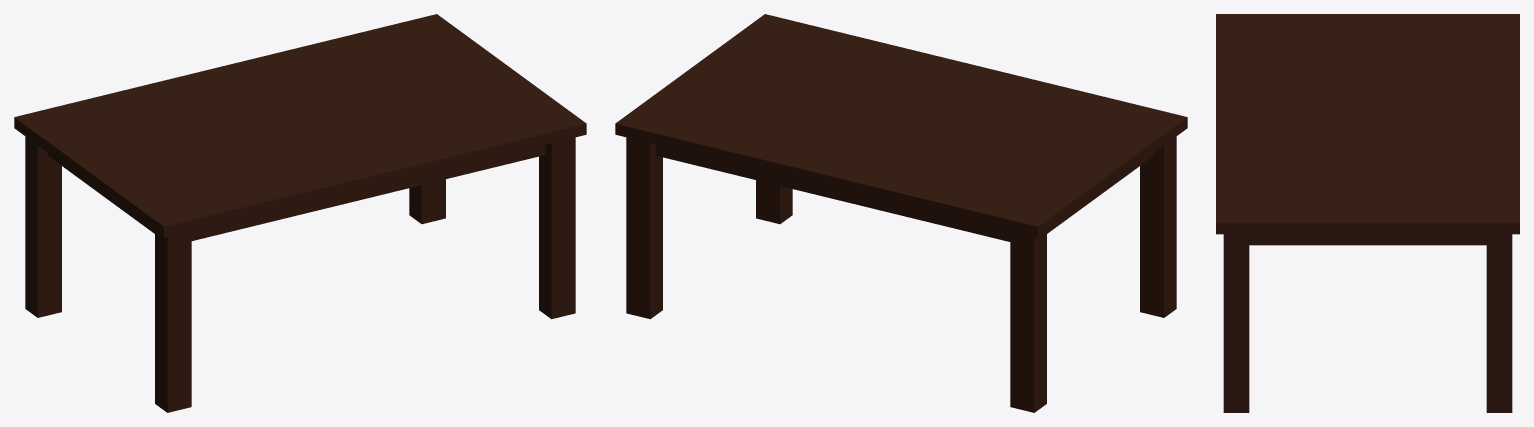
File: Table.fbx
3 views of the same model, side by side, from view 1: azimuth 30°, elevation 25°; view 2: azimuth 150°, elevation 25°; view 3: azimuth 270°, elevation 25° (orthographic).
Visible parts, largest first — view 1: Table; view 2: Table; view 3: Table.
Part boxes in pixels (box(x1,y1,x2,y2)): Table: box(14, 14, 586, 412); Table: box(615, 14, 1187, 412); Table: box(1216, 14, 1519, 412).
Size of the model in its own units: 240 by 103 by 147.
